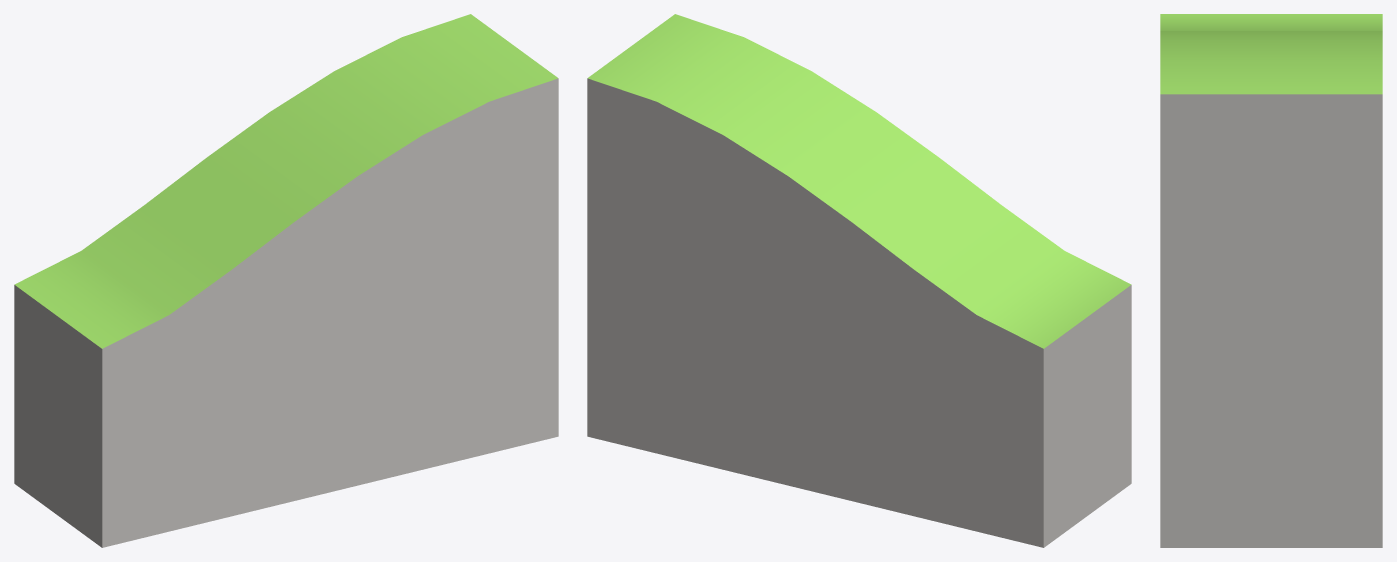
Rendered from inclineGrassPlatform.glb.
The picture shows the model from 3 angles, left to right: view 1: azimuth 30°, elevation 25°; view 2: azimuth 150°, elevation 25°; view 3: azimuth 270°, elevation 25°; orthographic projection. The views are drawn at different scales.
Parts seen in each view (by area): view 1: Hidden, Grass; view 2: Hidden, Grass; view 3: Hidden, Grass.
Part boxes in pixels (bbox=[...]): Hidden: bbox=[14, 78, 558, 547]; Grass: bbox=[14, 14, 557, 348]; Hidden: bbox=[587, 78, 1131, 547]; Grass: bbox=[588, 14, 1131, 348]; Hidden: bbox=[1160, 94, 1382, 547]; Grass: bbox=[1160, 14, 1382, 94].
Bounding box in the file's own units: 3 × 2.25 × 1.
